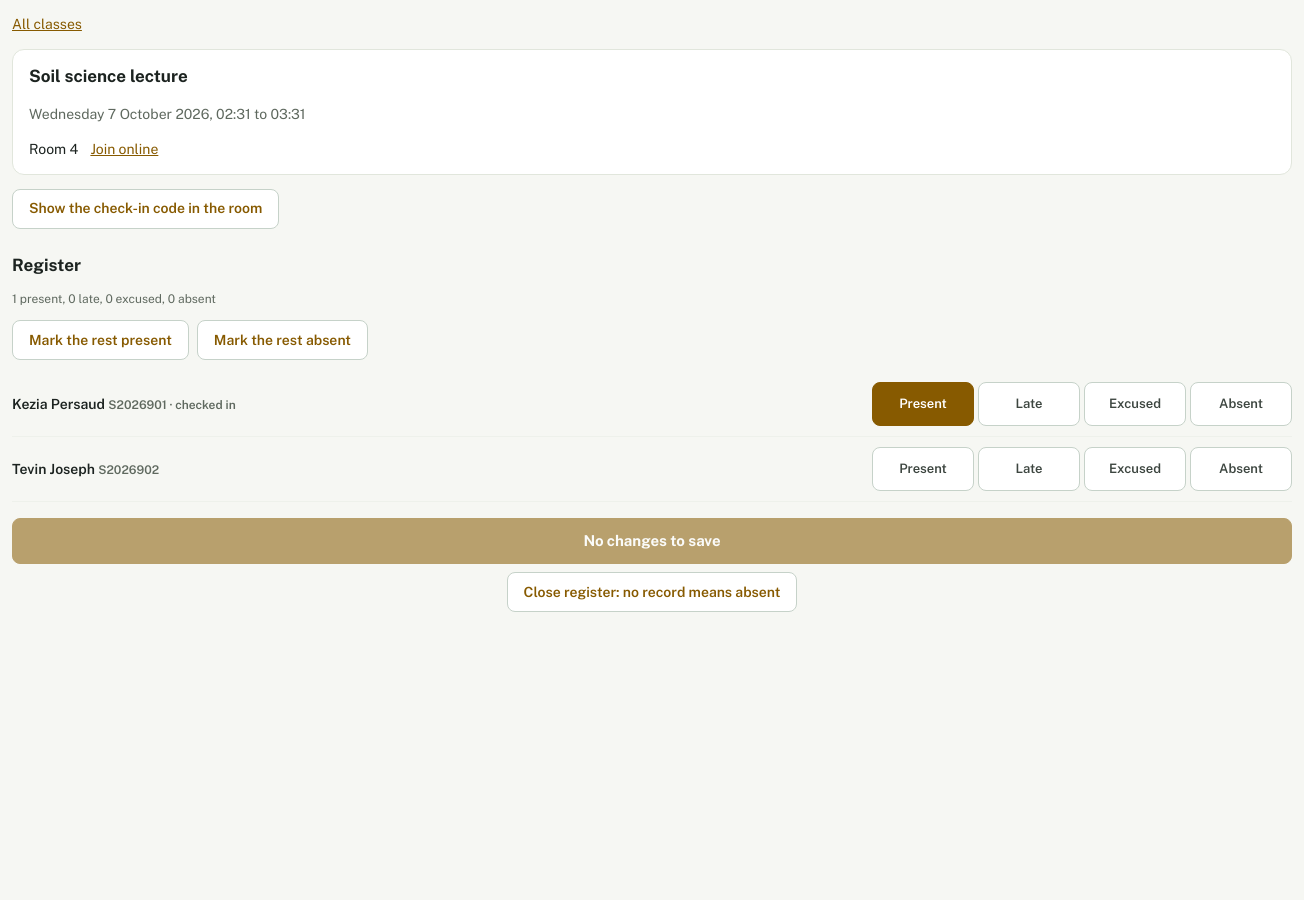
Test case: the register on a phone (item 4.15) › marks the rest present at one tap, keeps it without a connection, and sends it with one key
Check: the list item that starts with "Kezia Persaud" shows "checked in", box [167,398,236,412]
Check: the element named "Kezia Persaud" is shown, box [872,382,1292,426]
Click the button "Mark the rest present" at (100, 340), box [12,320,189,360]
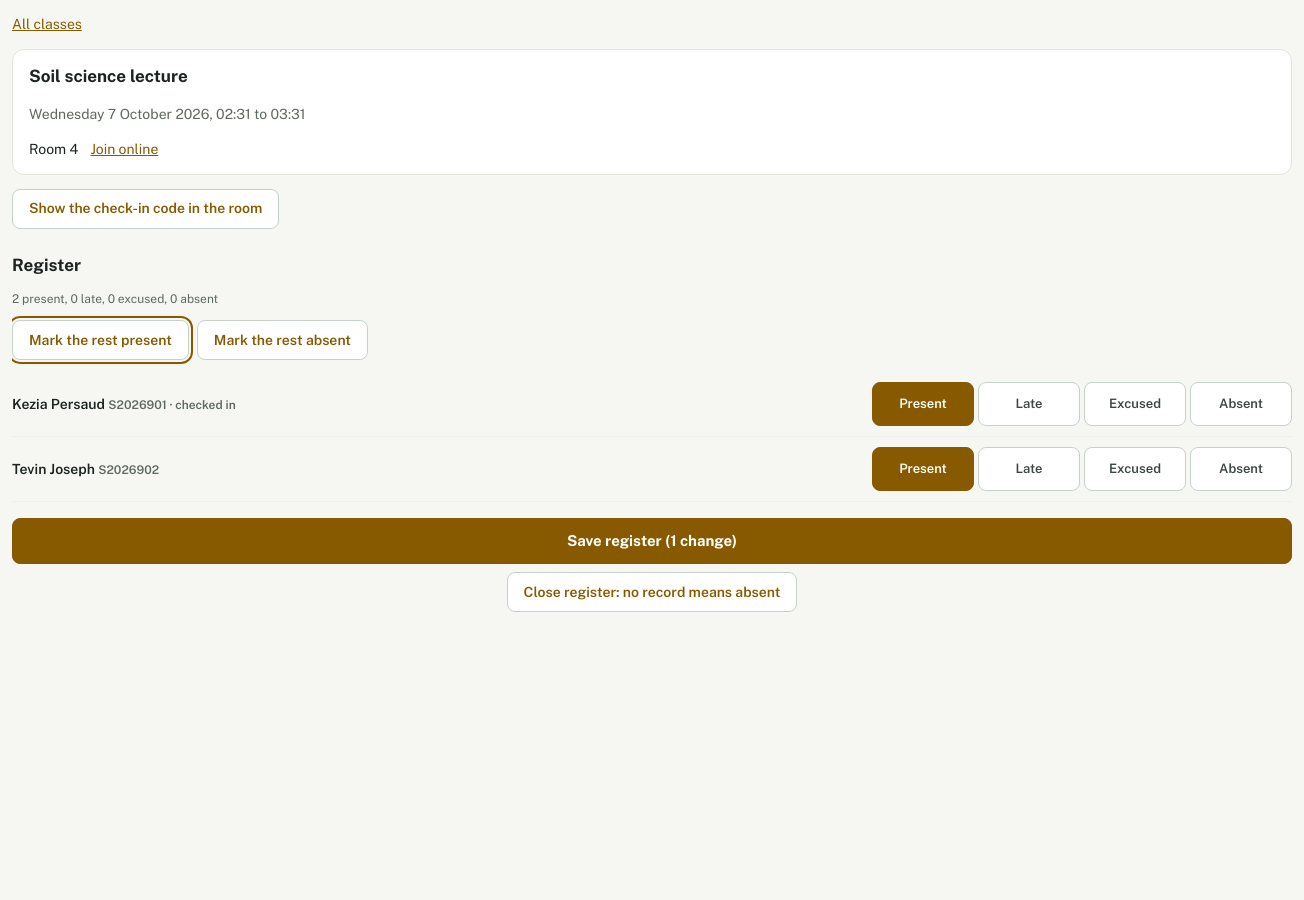
Check: the radio button labelled "Present" in the row of "Tevin Joseph" is checked, box [872,447,974,491]
Click the radio button labelled "Late" in the row of "Tevin Joseph" at (1029, 469), box [978,447,1080,491]
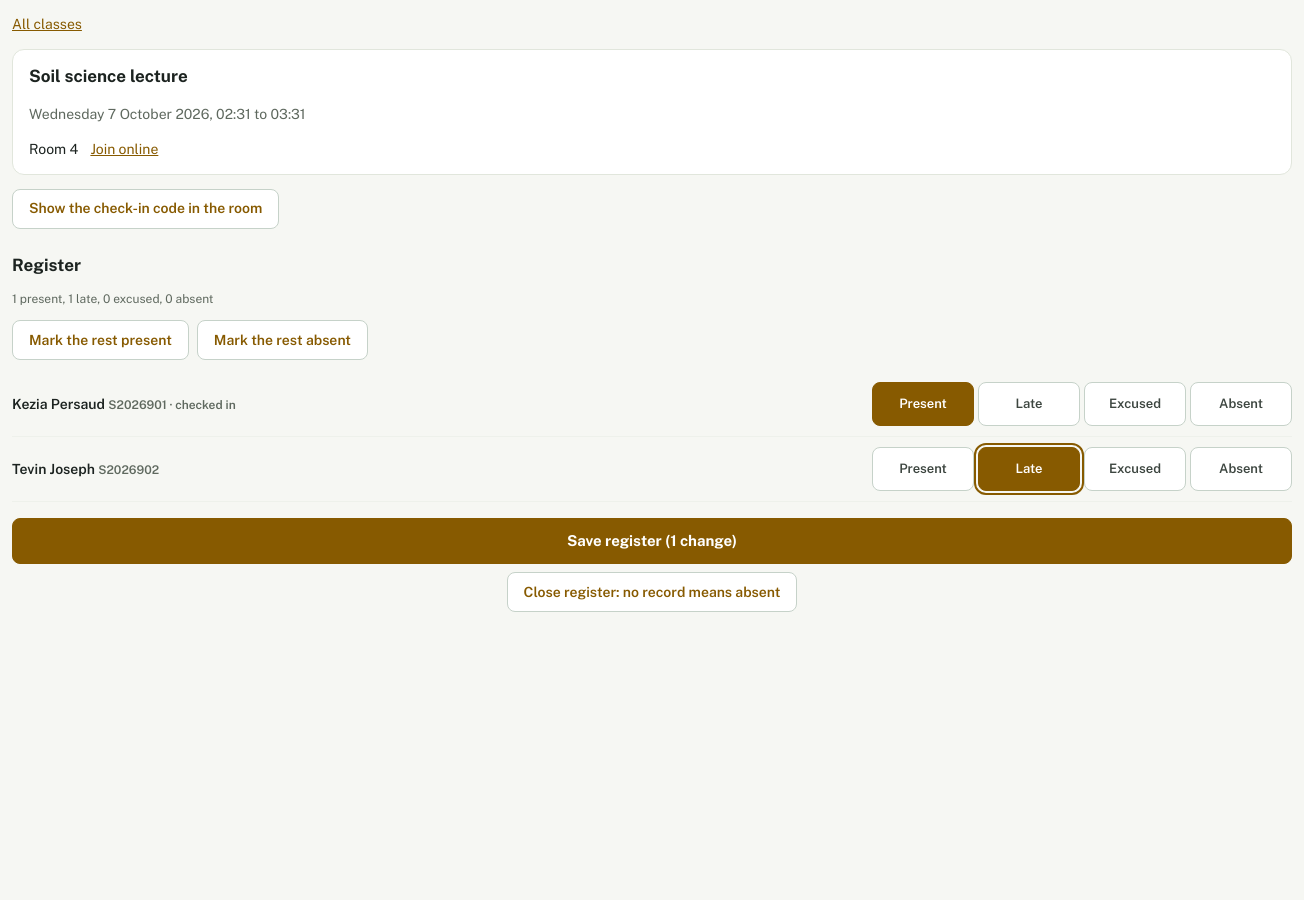
Click the button "Save register (1 change)" at (652, 541), box [12,518,1292,564]
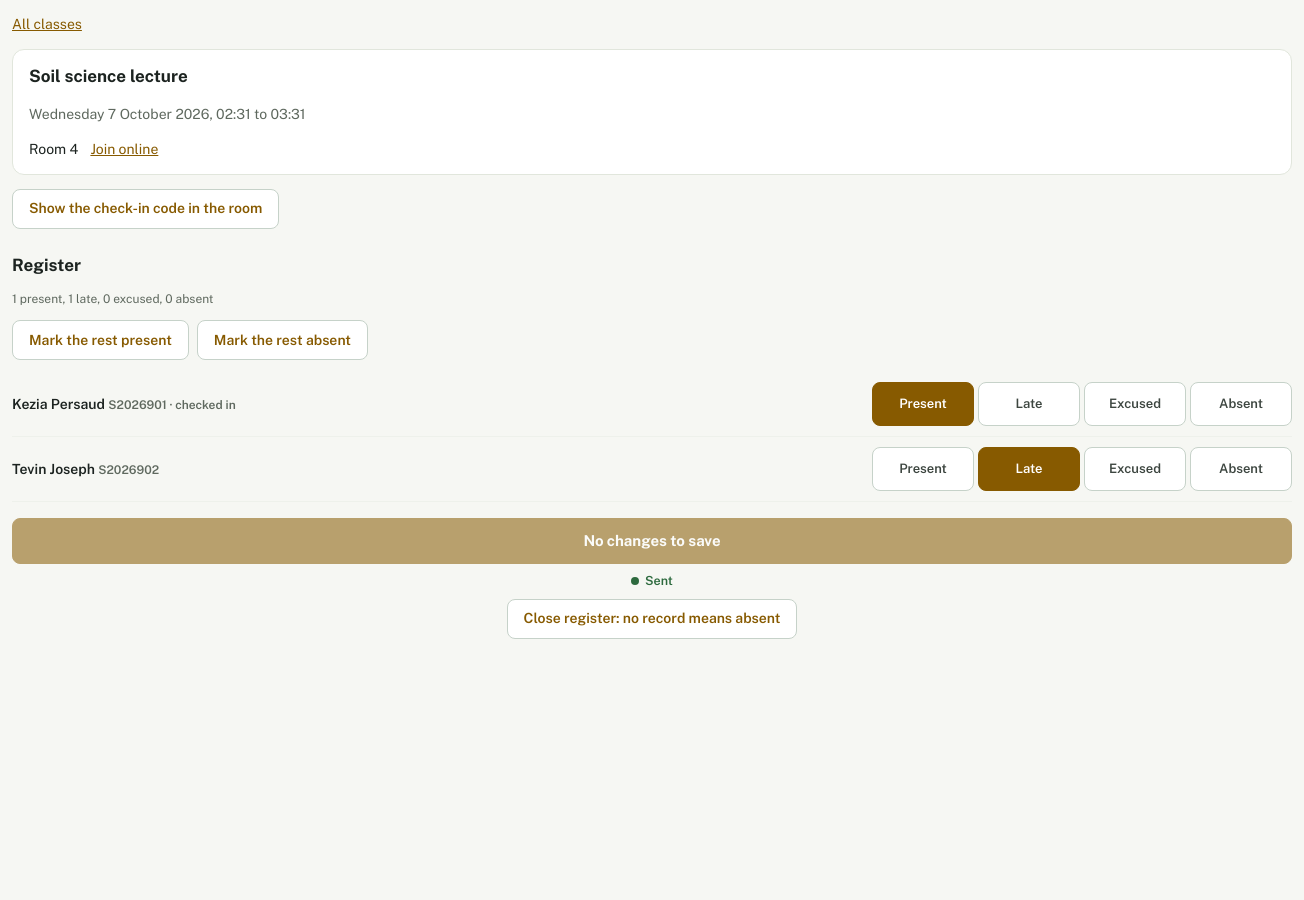
Check: the text "Sent" is shown, box [631,572,673,591]
